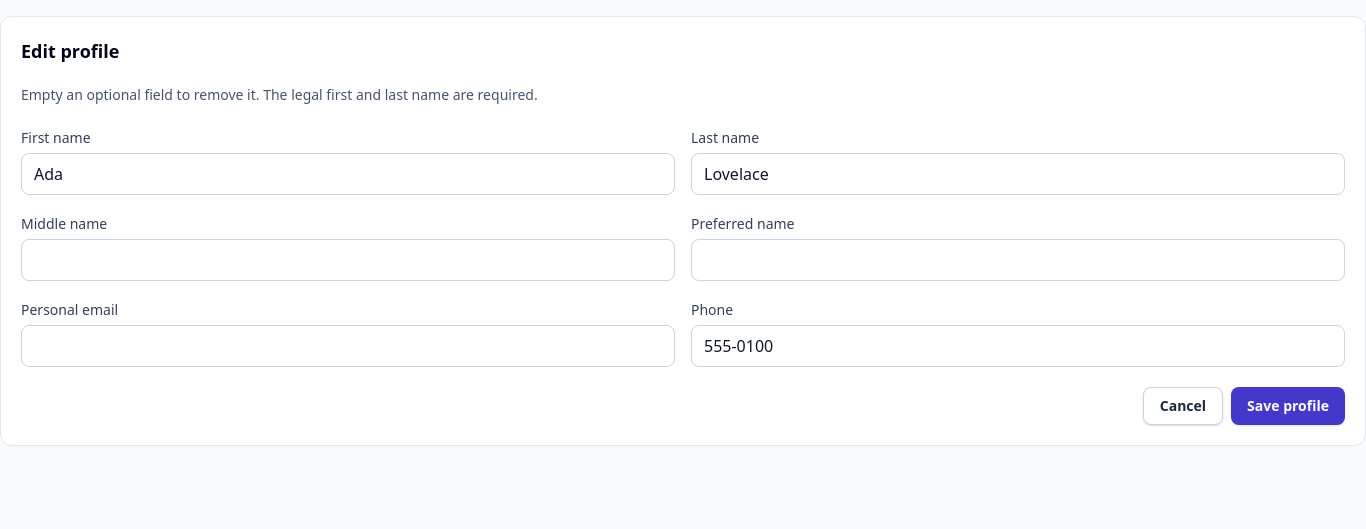
Test: EmployeeProfileEditForm › shows the API refusal and keeps the form
Replace the text in the field labelled "Phone" with "555-0199". click: [1018, 346]
box: [691,325,1345,367]
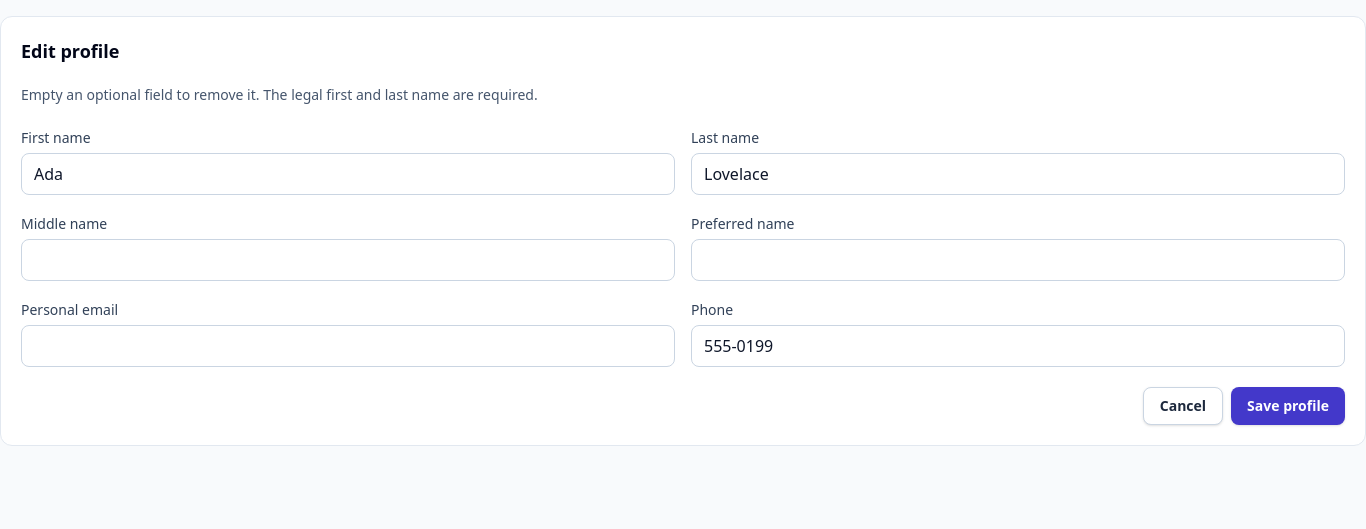
Click the button "Save profile". click: [1288, 406]
box: [1231,387,1345,425]
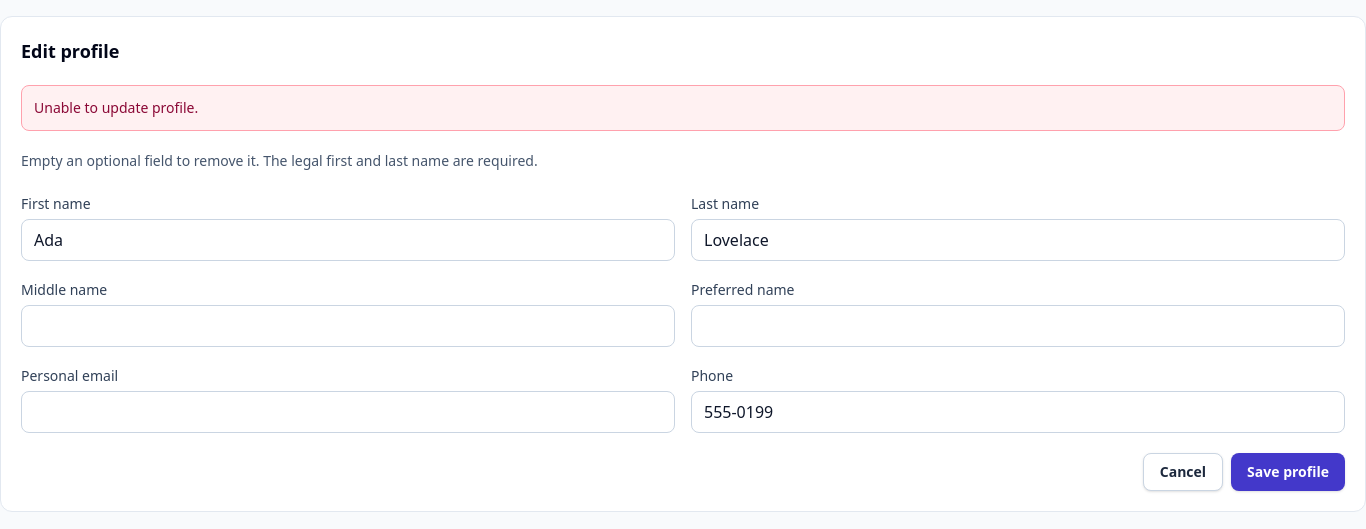
Expected: the field labelled "First name" holds "Ada", [21,219,675,261]
Now the text "Unable to update profile." is shown, box [21,85,1345,131]
